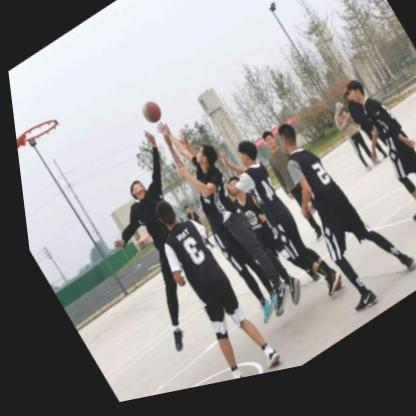basketball: (134, 101, 161, 133)
